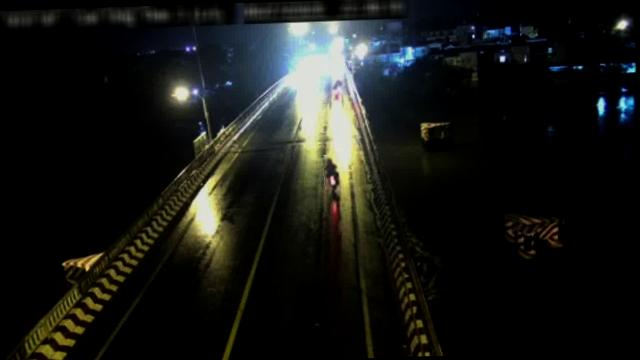Bike: (322, 153, 341, 190)
